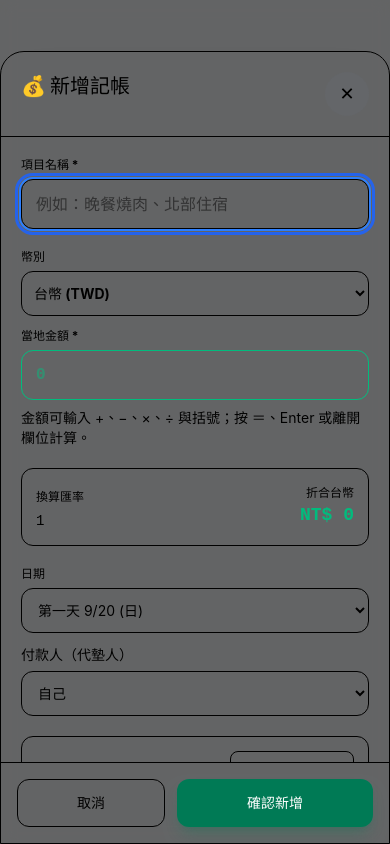
Test: expense calculator keypad › keeps the keypad layout until an outside pointer click has completed
Step 1. Focus the field with test id "expense-local-cost-input" → (195, 375), box x1=21 y1=350 x2=369 y2=400
(page scrolled)
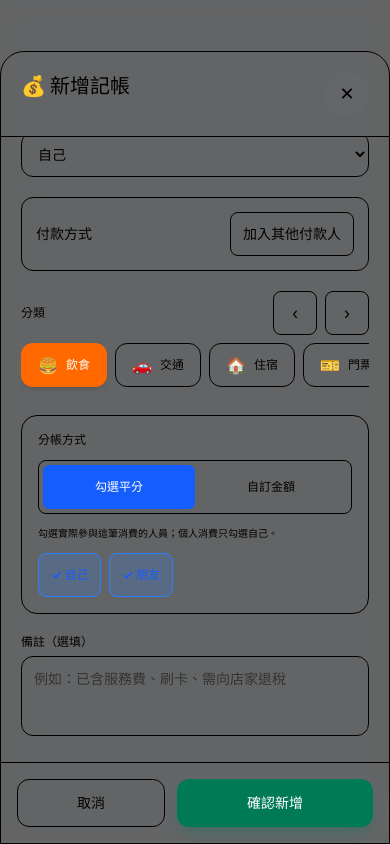
Step 2. Press the mouse on the button with test id "expense-split-custom-button" → (271, 487), box x1=195 y1=465 x2=347 y2=509
(page scrolled)
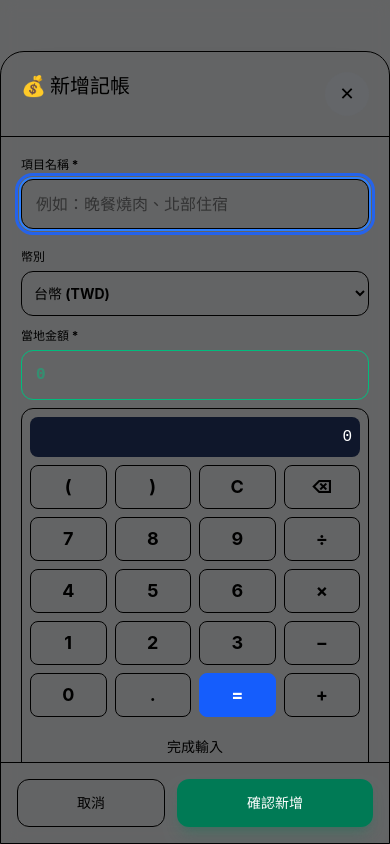
Step 3. Leave the field with test id "expense-local-cost-input", box x1=21 y1=350 x2=369 y2=400
(page scrolled)
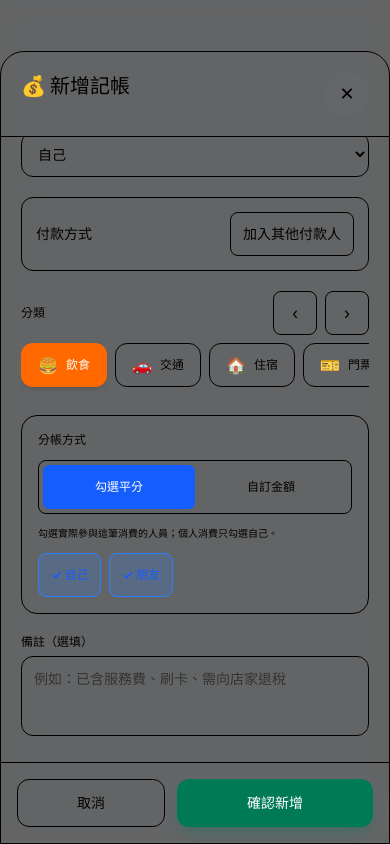
Step 4. Click the button with test id "expense-split-custom-button" → (271, 487), box x1=195 y1=465 x2=347 y2=509
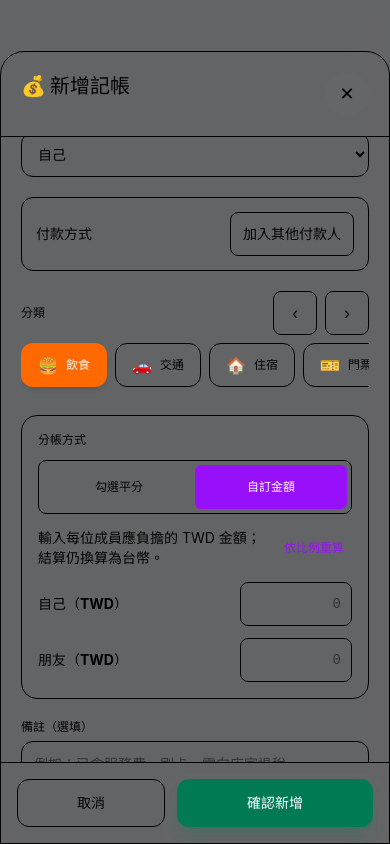
Result: the field named "自己 自訂分帳金額（TWD）" is shown at x1=240 y1=582 x2=352 y2=626
